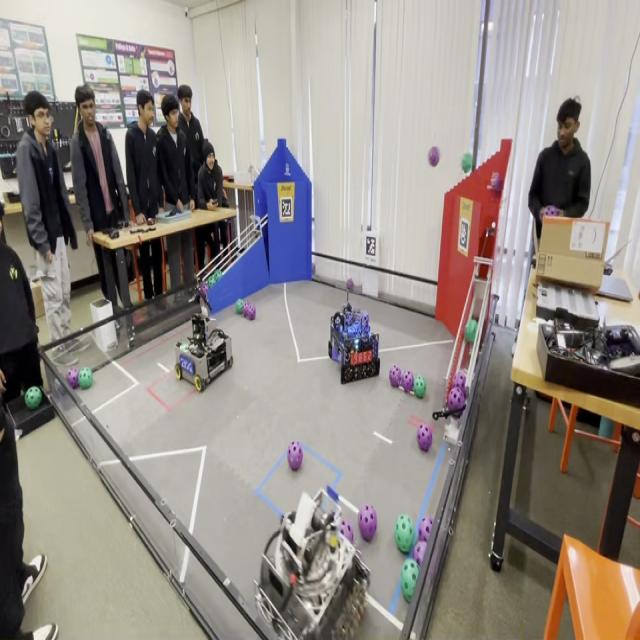artifact_green: (401, 560, 419, 602), (395, 515, 414, 553), (25, 387, 42, 411), (79, 367, 93, 390), (465, 318, 477, 343), (414, 376, 426, 399), (462, 152, 472, 174), (198, 280, 208, 298), (236, 299, 243, 315), (242, 302, 249, 317), (346, 278, 354, 291), (207, 275, 215, 287), (214, 270, 222, 282), (180, 343, 188, 351)
artifact_purple: (358, 505, 377, 541), (288, 441, 303, 471), (448, 388, 465, 412), (417, 424, 432, 451), (419, 517, 433, 542), (413, 541, 427, 565), (341, 518, 354, 542), (452, 370, 466, 391), (401, 370, 414, 392), (66, 368, 79, 388), (390, 366, 402, 387), (490, 172, 503, 190), (428, 146, 439, 167), (361, 312, 369, 331), (247, 304, 255, 321), (199, 281, 207, 297), (545, 207, 559, 216), (345, 311, 353, 325), (346, 278, 353, 291), (243, 303, 249, 317), (312, 264, 315, 276)
